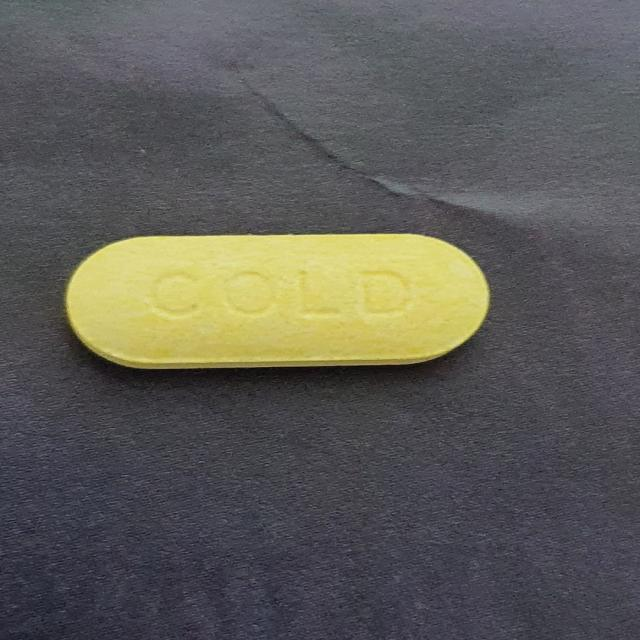pill: (51, 210, 498, 390)
